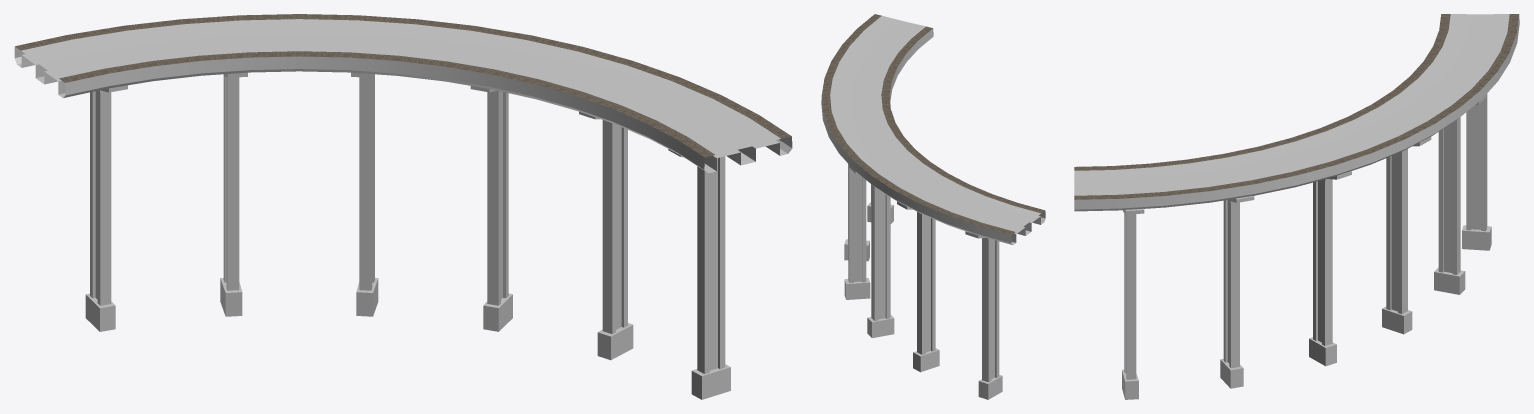
File: Overpass3_High_LOD1.fbx
3 renders of one model, left to right at view 1: azimuth 30°, elevation 25°; view 2: azimuth 150°, elevation 25°; view 3: azimuth 270°, elevation 25°, orthographic. The views are drawn at different scales.
Visible parts, largest first — view 1: polySurface864; view 2: polySurface864; view 3: polySurface864.
Boxes of the visible parts, left/top/right/bottom form: polySurface864: left=14, top=14, right=792, bottom=399; polySurface864: left=821, top=14, right=1045, bottom=399; polySurface864: left=1074, top=14, right=1519, bottom=399.
Bounding box in the file's own units: 83.5 × 44.14 × 84.51.
